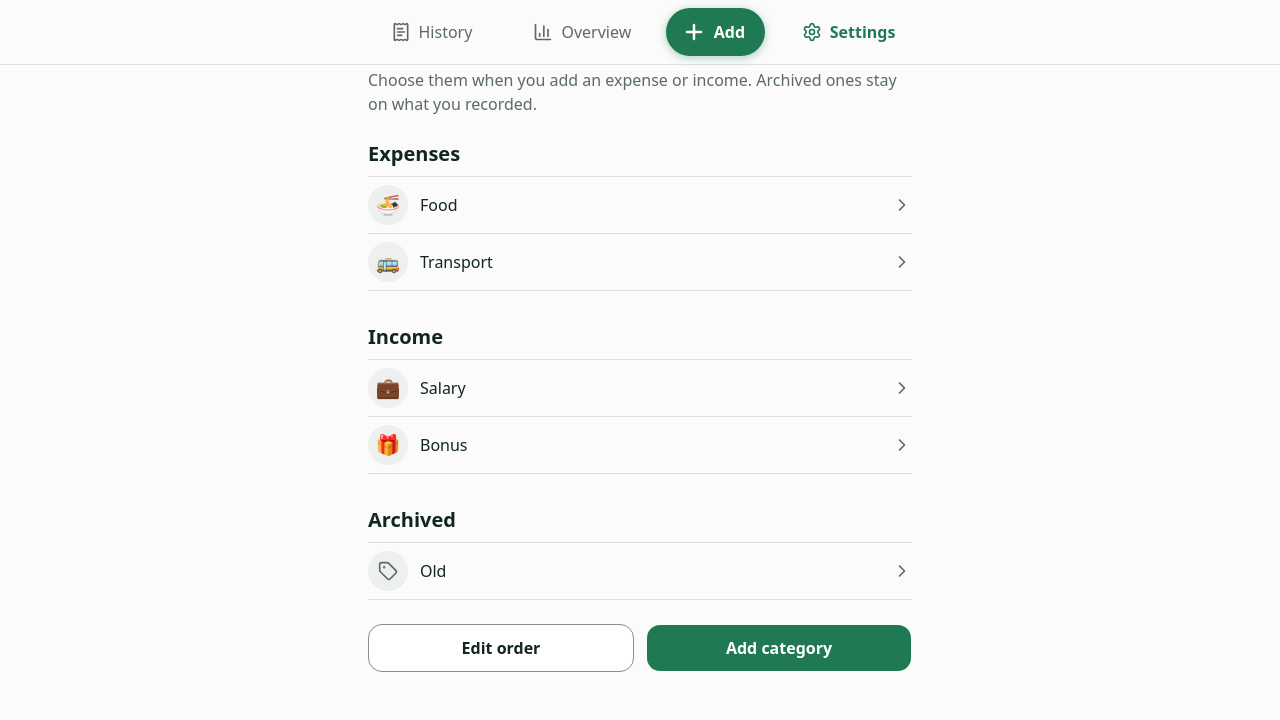
Categories › shows why an unarchive is refused
(page scrolled)
Click the button "Old". click: point(388, 571)
box: [368, 543, 912, 599]
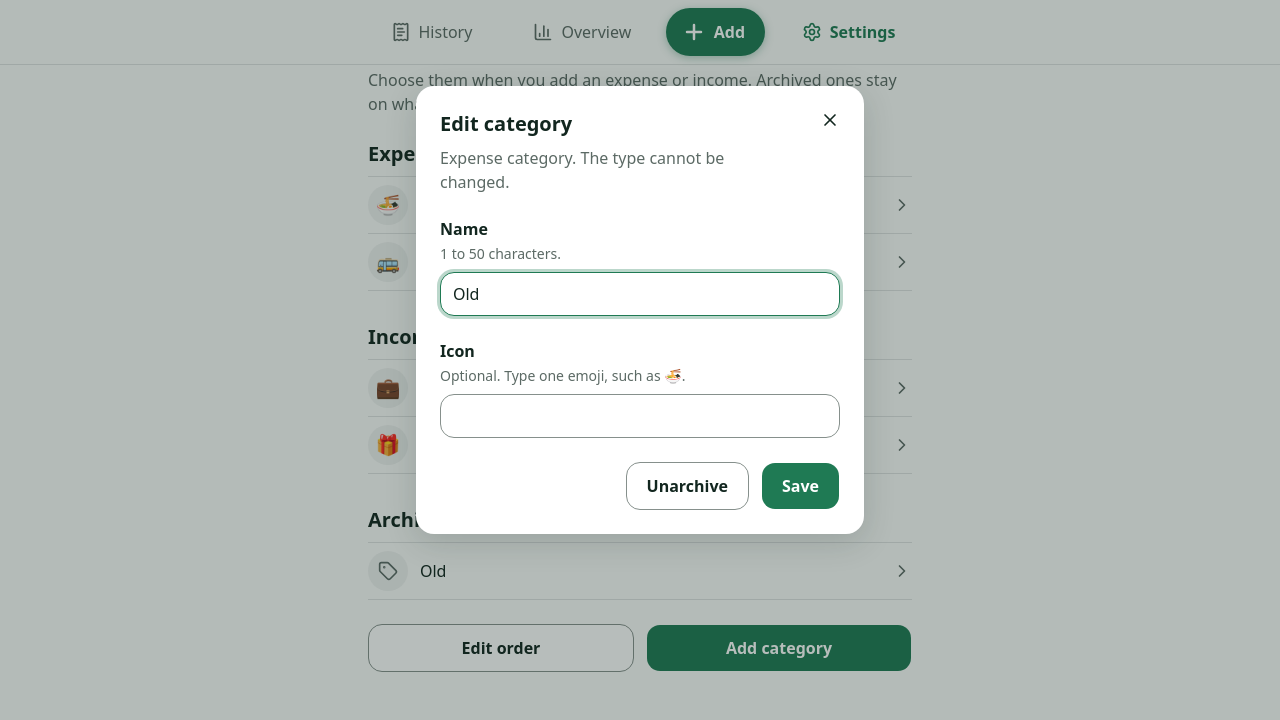
Click the button "Unarchive". click: point(687, 486)
box: [626, 462, 749, 510]
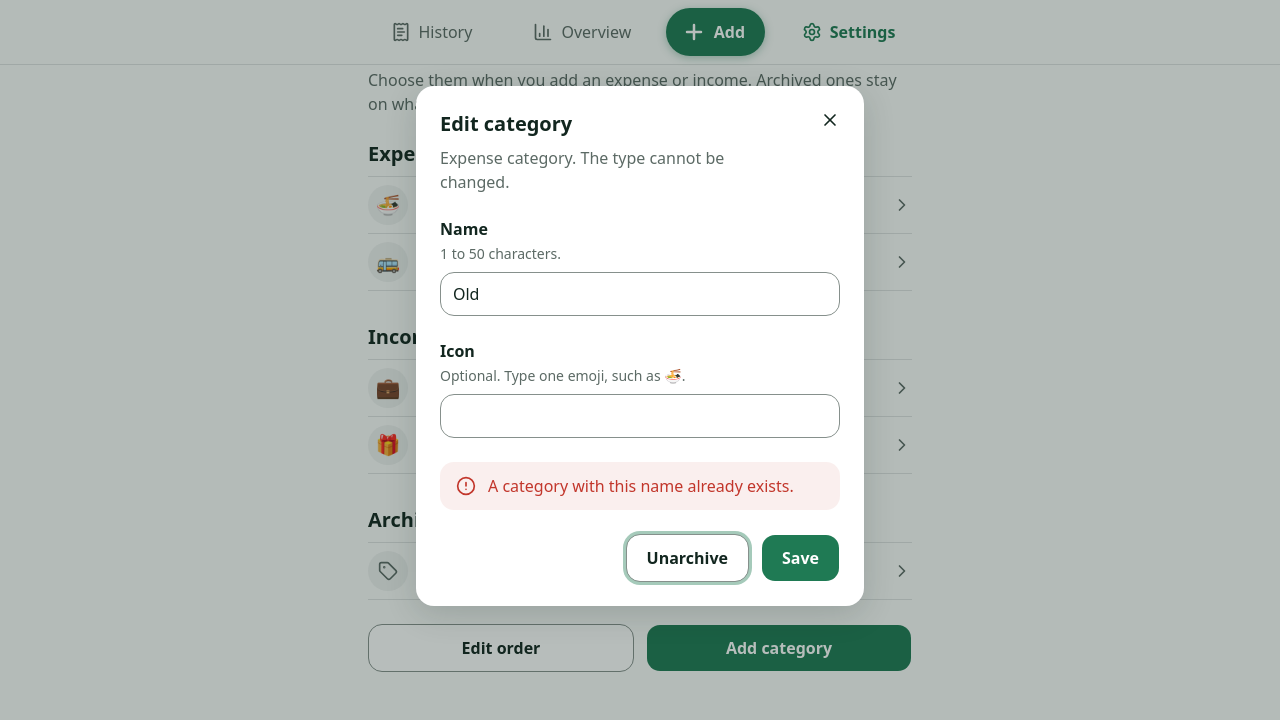
Expected: the message reads "A category with this name already exists.", [488, 475, 794, 497]
